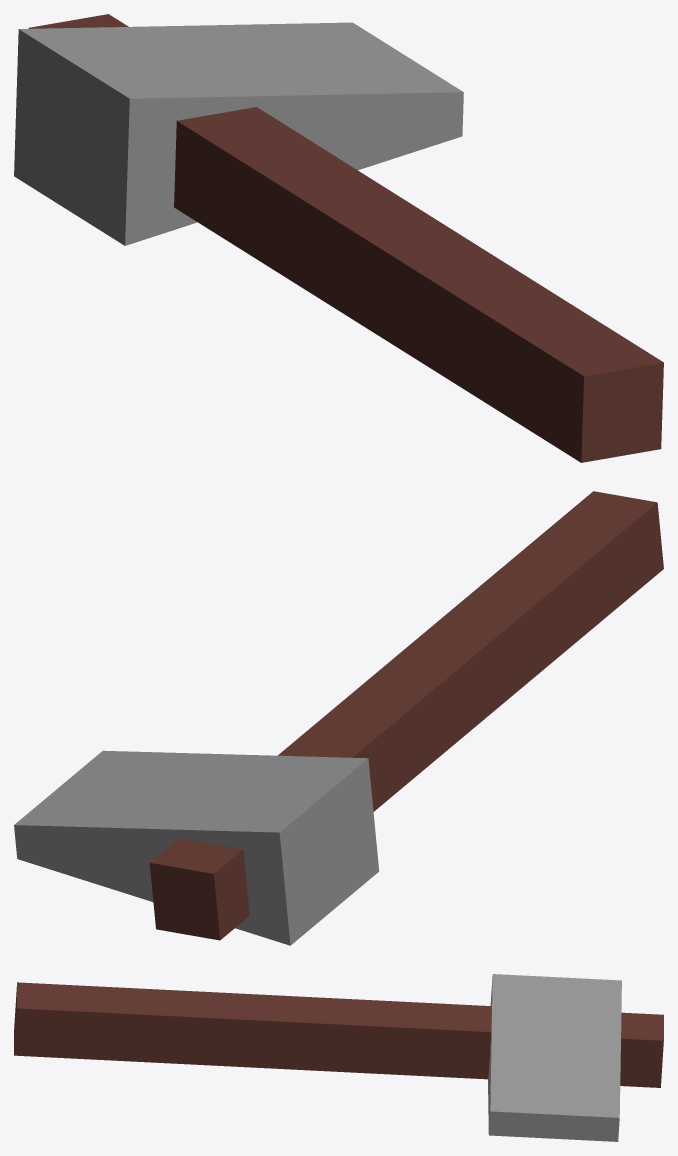
File: Axe.fbx
3 views of the same model, one above another, from view 1: azimuth 30°, elevation 25°; view 2: azimuth 150°, elevation 25°; view 3: azimuth 270°, elevation 25° (orthographic). The views are drawn at different scales.
Visible parts, largest first — view 1: Axe; view 2: Axe; view 3: Axe.
Boxes of the visible parts, <box> form: Axe: <box>14,14,663,462</box>; Axe: <box>14,491,663,945</box>; Axe: <box>14,974,663,1141</box>.
Bounding box in the file's own units: 0.0896 × 0.0406 × 0.2528.
